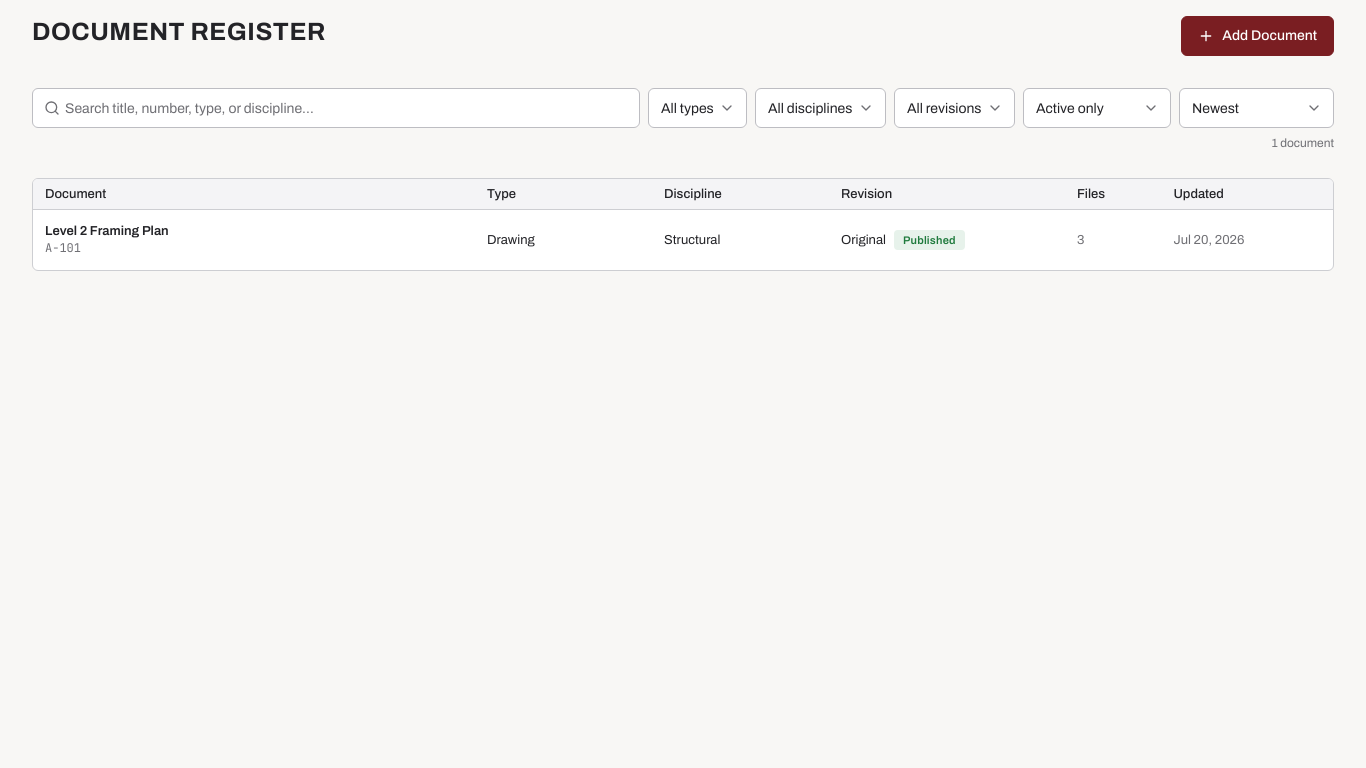
Test case: Add Document — presentation and validation › opens in the shared detail Drawer and focuses the first choice
The width and height of the screenshot is (1366, 768).
Expected: the table with class "records-register-table" is shown, left=33, top=179, right=1333, bottom=270
What coordinates should you click on to do the following:
click the button "Add document"
I would click on:
 (1258, 36)
Its box is left=1181, top=16, right=1334, bottom=56.
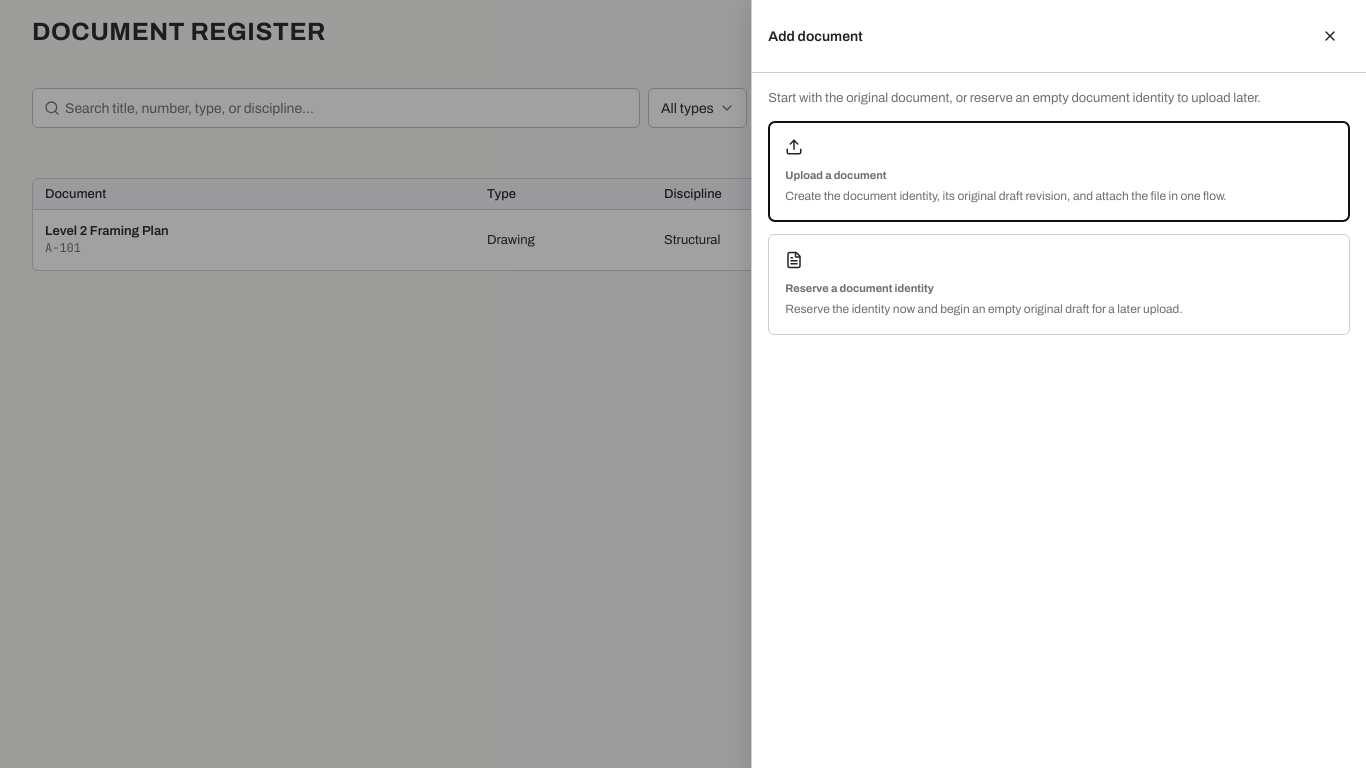
Now the dialog with class "add-document-drawer" is shown, box left=751, top=0, right=1365, bottom=767
